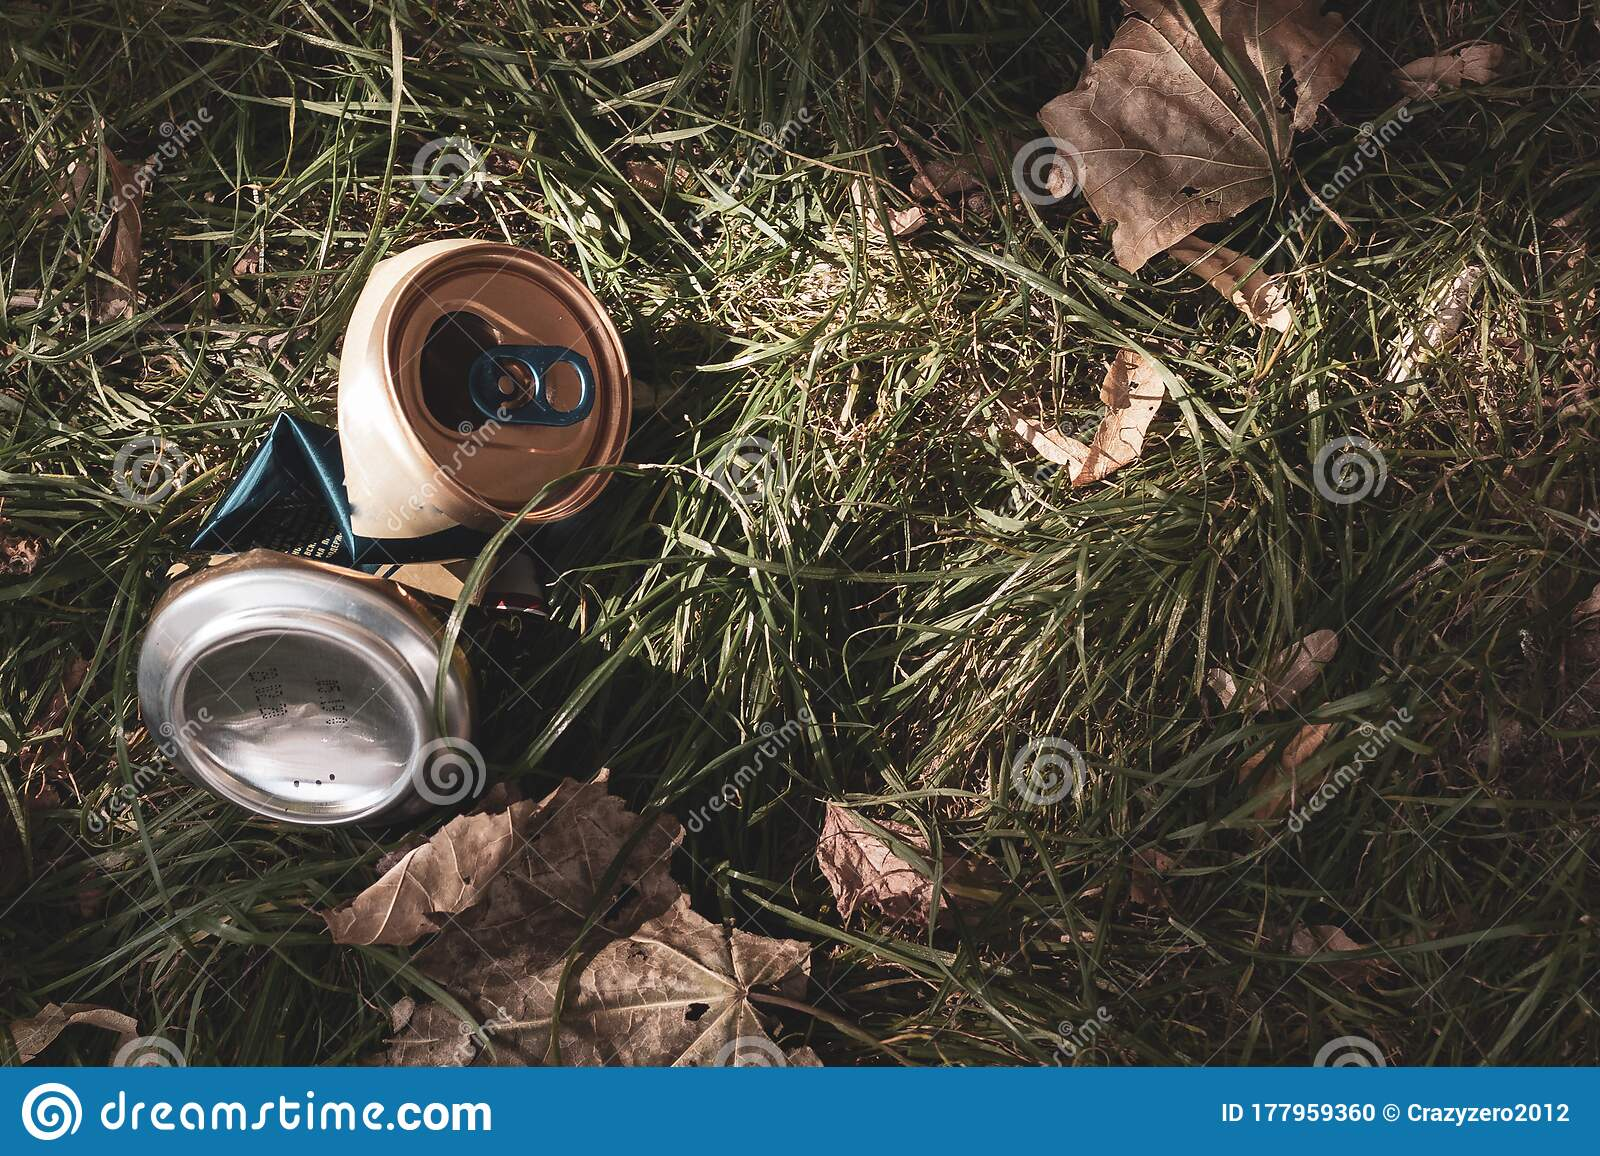can: (144, 231, 646, 821)
